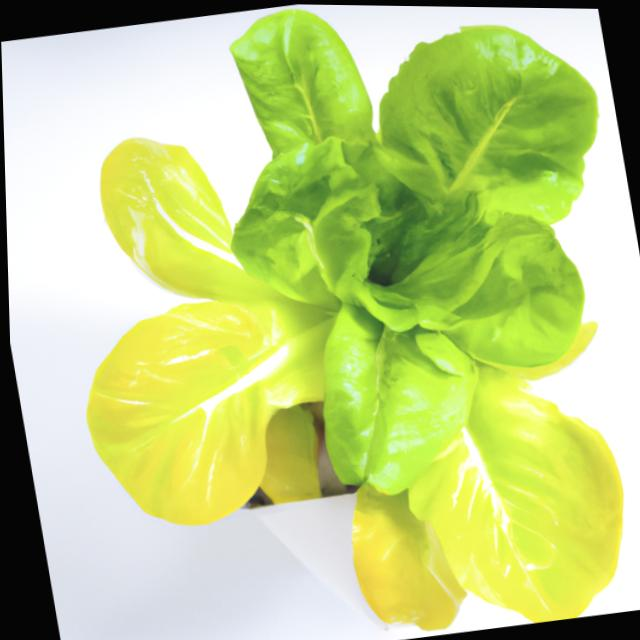-N: (16, 0, 640, 640)
